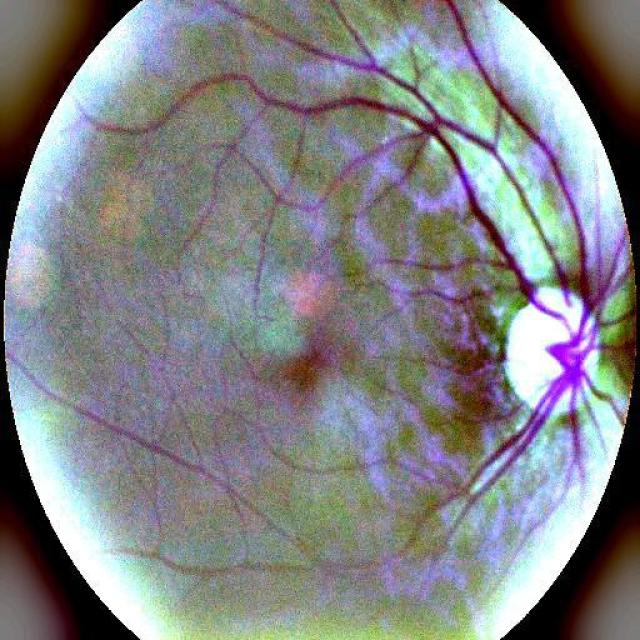Macula: (273, 337, 331, 418)
Nerves: (384, 0, 634, 496), (454, 279, 491, 305)
Optic Disk: (505, 286, 598, 411)
